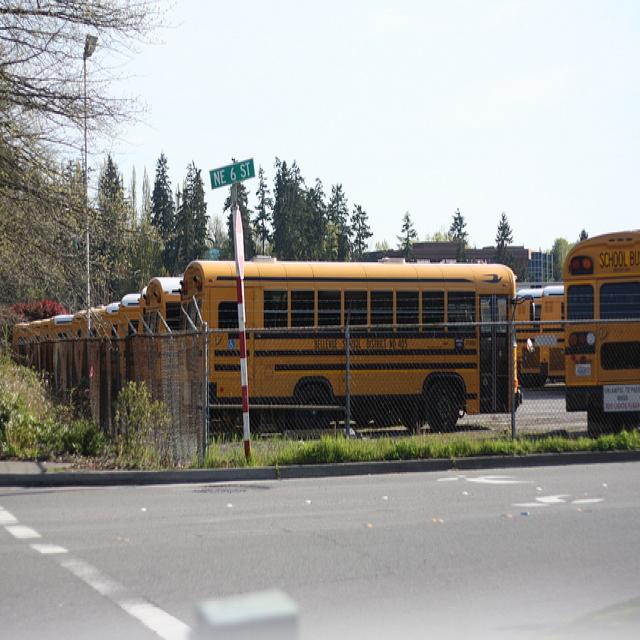Vehicle: (182, 259, 521, 431), (563, 228, 640, 436), (516, 282, 564, 387), (139, 278, 184, 333), (119, 293, 141, 341), (50, 314, 76, 341), (104, 302, 121, 338), (90, 303, 106, 338), (71, 310, 88, 338), (26, 321, 42, 342), (13, 322, 29, 342)
